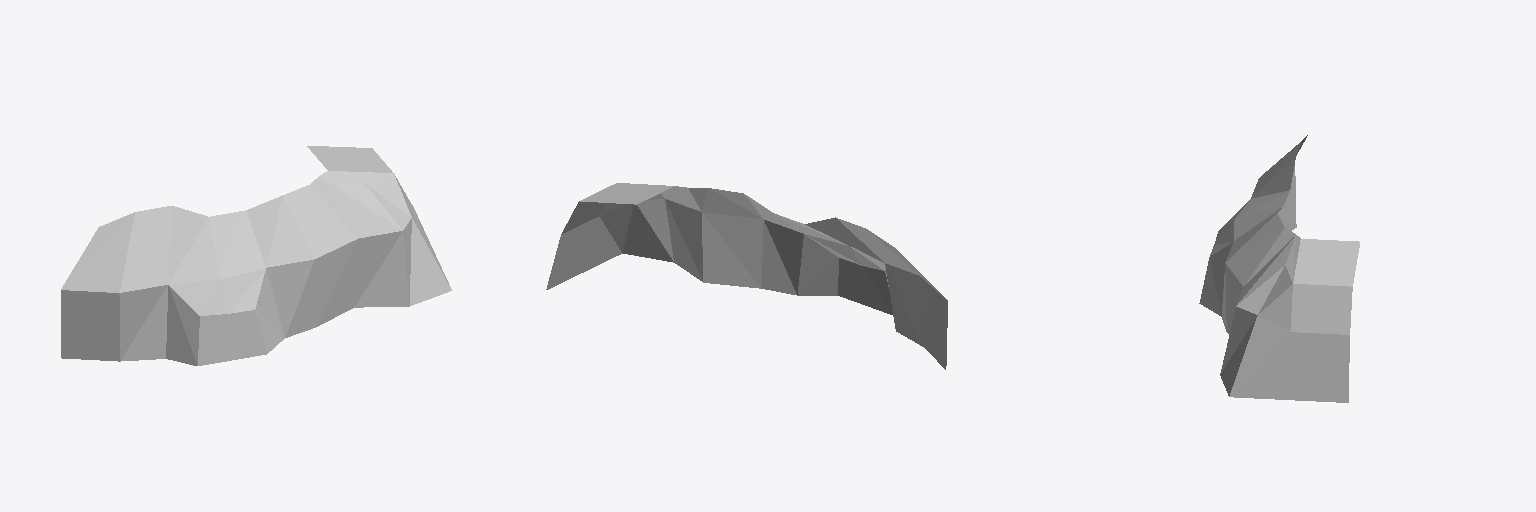
Rendered from mLv1Mountain12.obj.
3 renders of one model, left to right at view 1: azimuth 30°, elevation 25°; view 2: azimuth 150°, elevation 25°; view 3: azimuth 270°, elevation 25°, orthographic.
Visible parts, largest first — view 1: mMountain010; view 2: mMountain010; view 3: mMountain010.
Part boxes in pixels (x1,y1,x2,y2): mMountain010: (61,146,451,365); mMountain010: (546,183,947,369); mMountain010: (1199,135,1359,402).
Size of the model in its own units: 54.05 by 17.32 by 20.08.